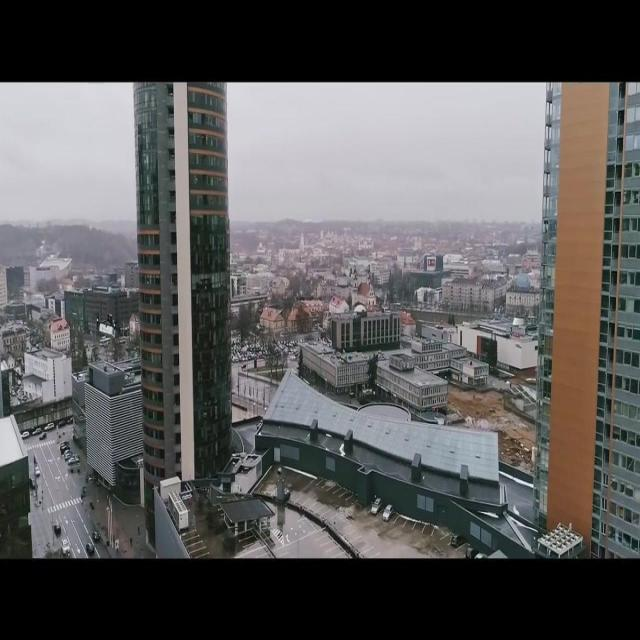UAV: (96, 312, 120, 334)
